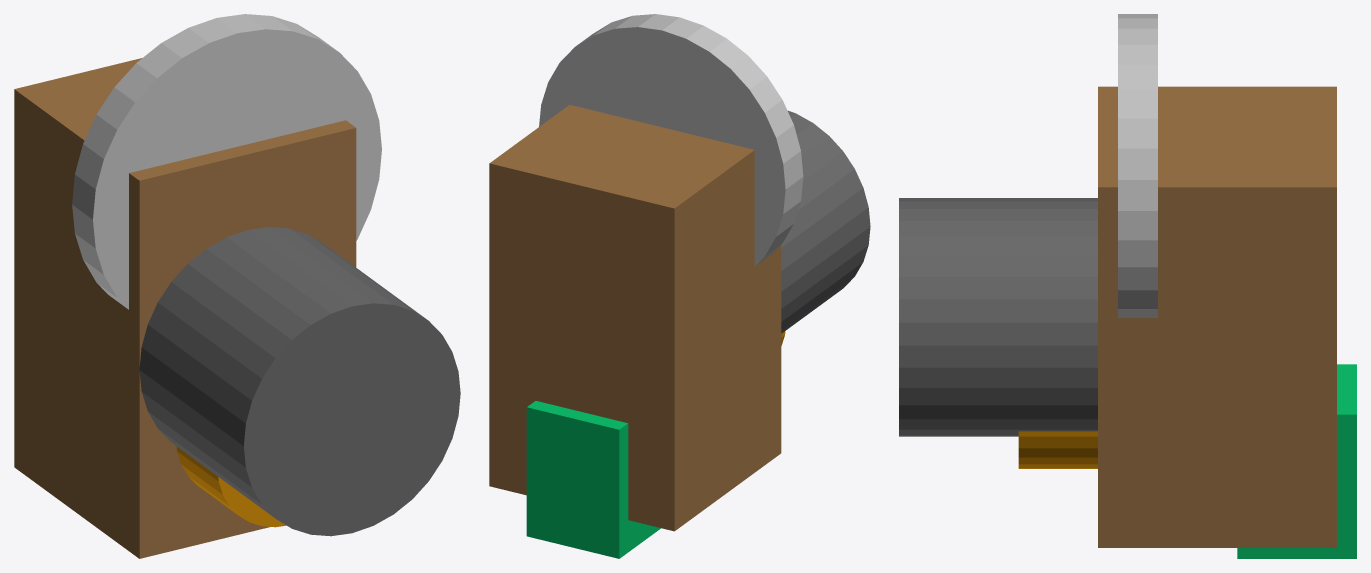
File: hero.glb
3 renders of one model, left to right at view 1: azimuth 30°, elevation 25°; view 2: azimuth 150°, elevation 25°; view 3: azimuth 270°, elevation 25°, orthographic. The views are drawn at different scales.
Parts seen in each view (by area): view 1: housing, receiver, diaphragm, coil; view 2: housing, diaphragm, battery, receiver; view 3: housing, receiver, diaphragm, battery, coil.
Boxes of the visible parts, bbox=[...] form: housing: bbox=[14, 58, 356, 558]; receiver: bbox=[139, 227, 460, 536]; diaphragm: bbox=[72, 14, 381, 309]; coil: bbox=[176, 446, 286, 527]; housing: bbox=[489, 104, 781, 531]; diaphragm: bbox=[539, 14, 803, 266]; battery: bbox=[526, 401, 660, 558]; receiver: bbox=[781, 110, 870, 333]; housing: bbox=[1098, 86, 1336, 547]; receiver: bbox=[899, 198, 1097, 436]; diaphragm: bbox=[1118, 14, 1157, 317]; battery: bbox=[1237, 364, 1356, 558]; coil: bbox=[1018, 431, 1097, 468].
Size of the model in its own units: 0.4 by 0.7 by 0.575.
